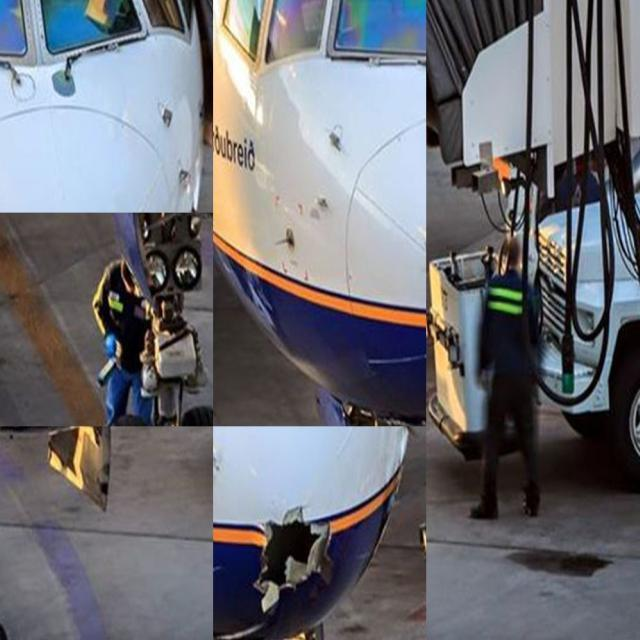crack: (251, 505, 339, 621)
